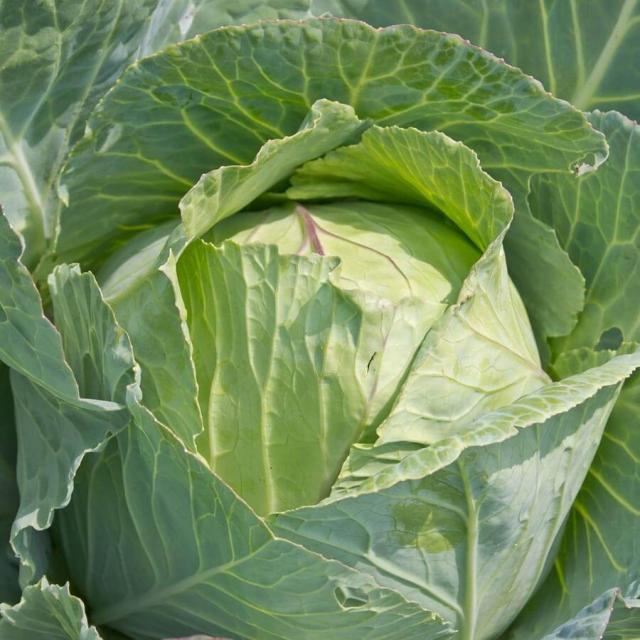cabbage: (2, 1, 640, 640)
